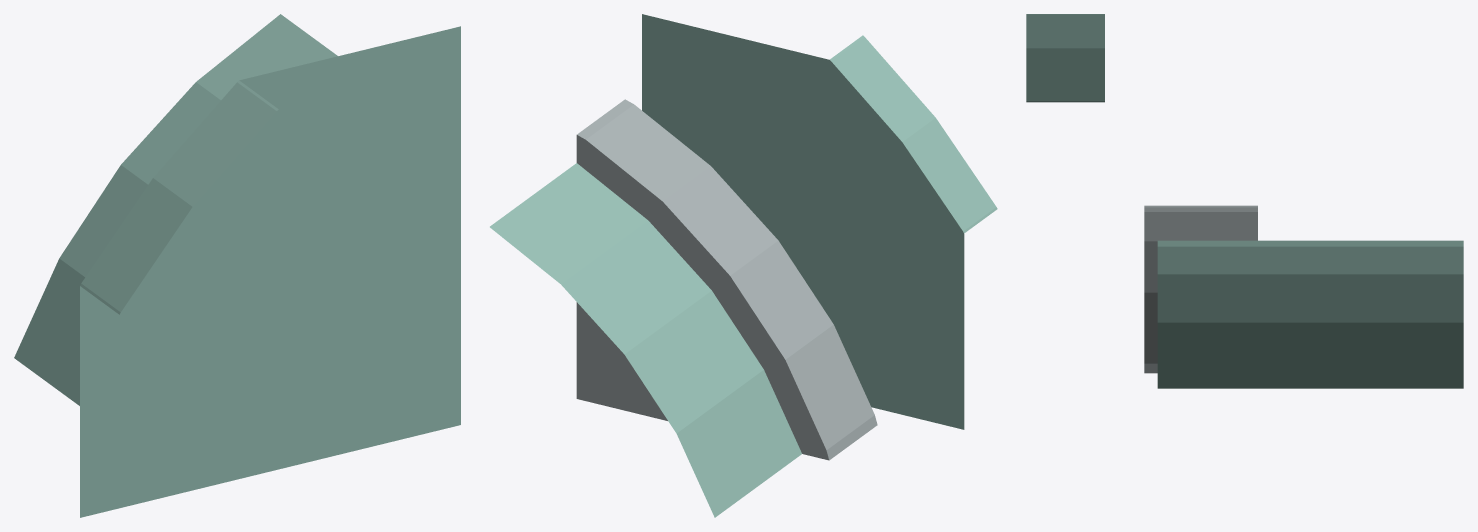
File: cell_171.obj
The picture shows the model from 3 angles, left to right: view 1: azimuth 30°, elevation 25°; view 2: azimuth 150°, elevation 25°; view 3: azimuth 270°, elevation 25°; orthographic projection. The views are drawn at different scales.
Size of the model in its own units: 1 by 1 by 1.
